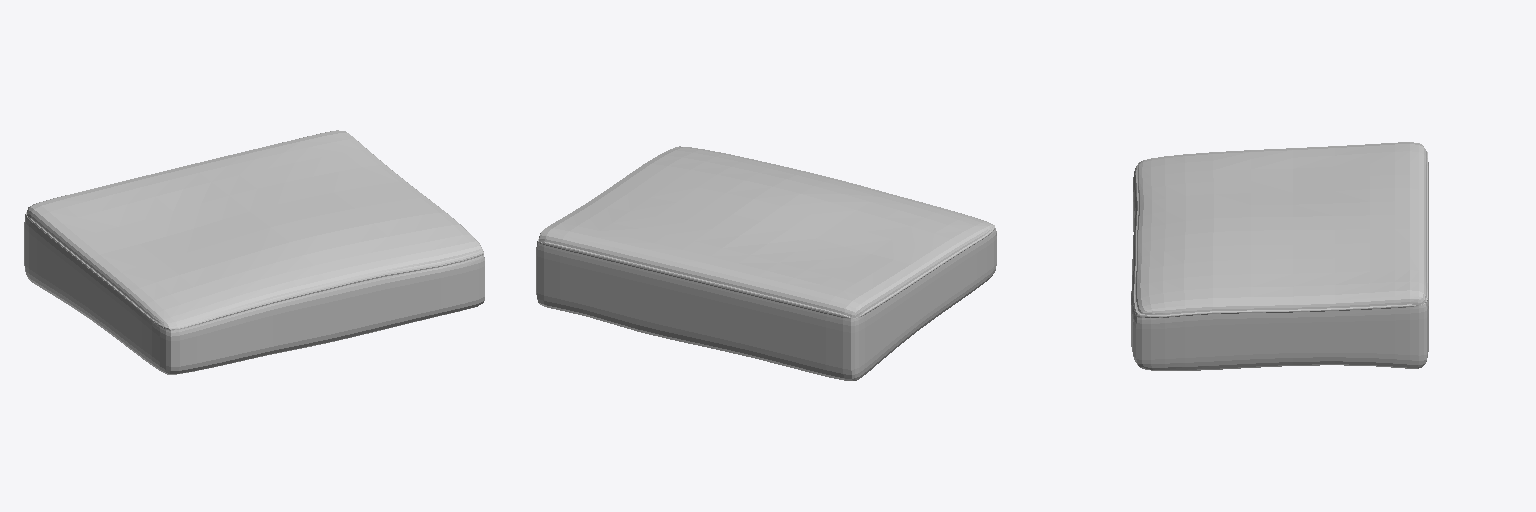
Rendered from couch-seat-right.obj.
3 views of the same model, side by side, from view 1: azimuth 30°, elevation 25°; view 2: azimuth 150°, elevation 25°; view 3: azimuth 270°, elevation 25° (orthographic).
Visible parts, largest first — view 1: 5_sear_r_Untitled.009; view 2: 5_sear_r_Untitled.009; view 3: 5_sear_r_Untitled.009.
Boxes of the visible parts, x1,y1,x2,y2 form: 5_sear_r_Untitled.009: [24, 130, 484, 374]; 5_sear_r_Untitled.009: [536, 146, 996, 380]; 5_sear_r_Untitled.009: [1131, 142, 1428, 370].
Size of the model in its own units: 2.34 by 0.5683 by 1.86.